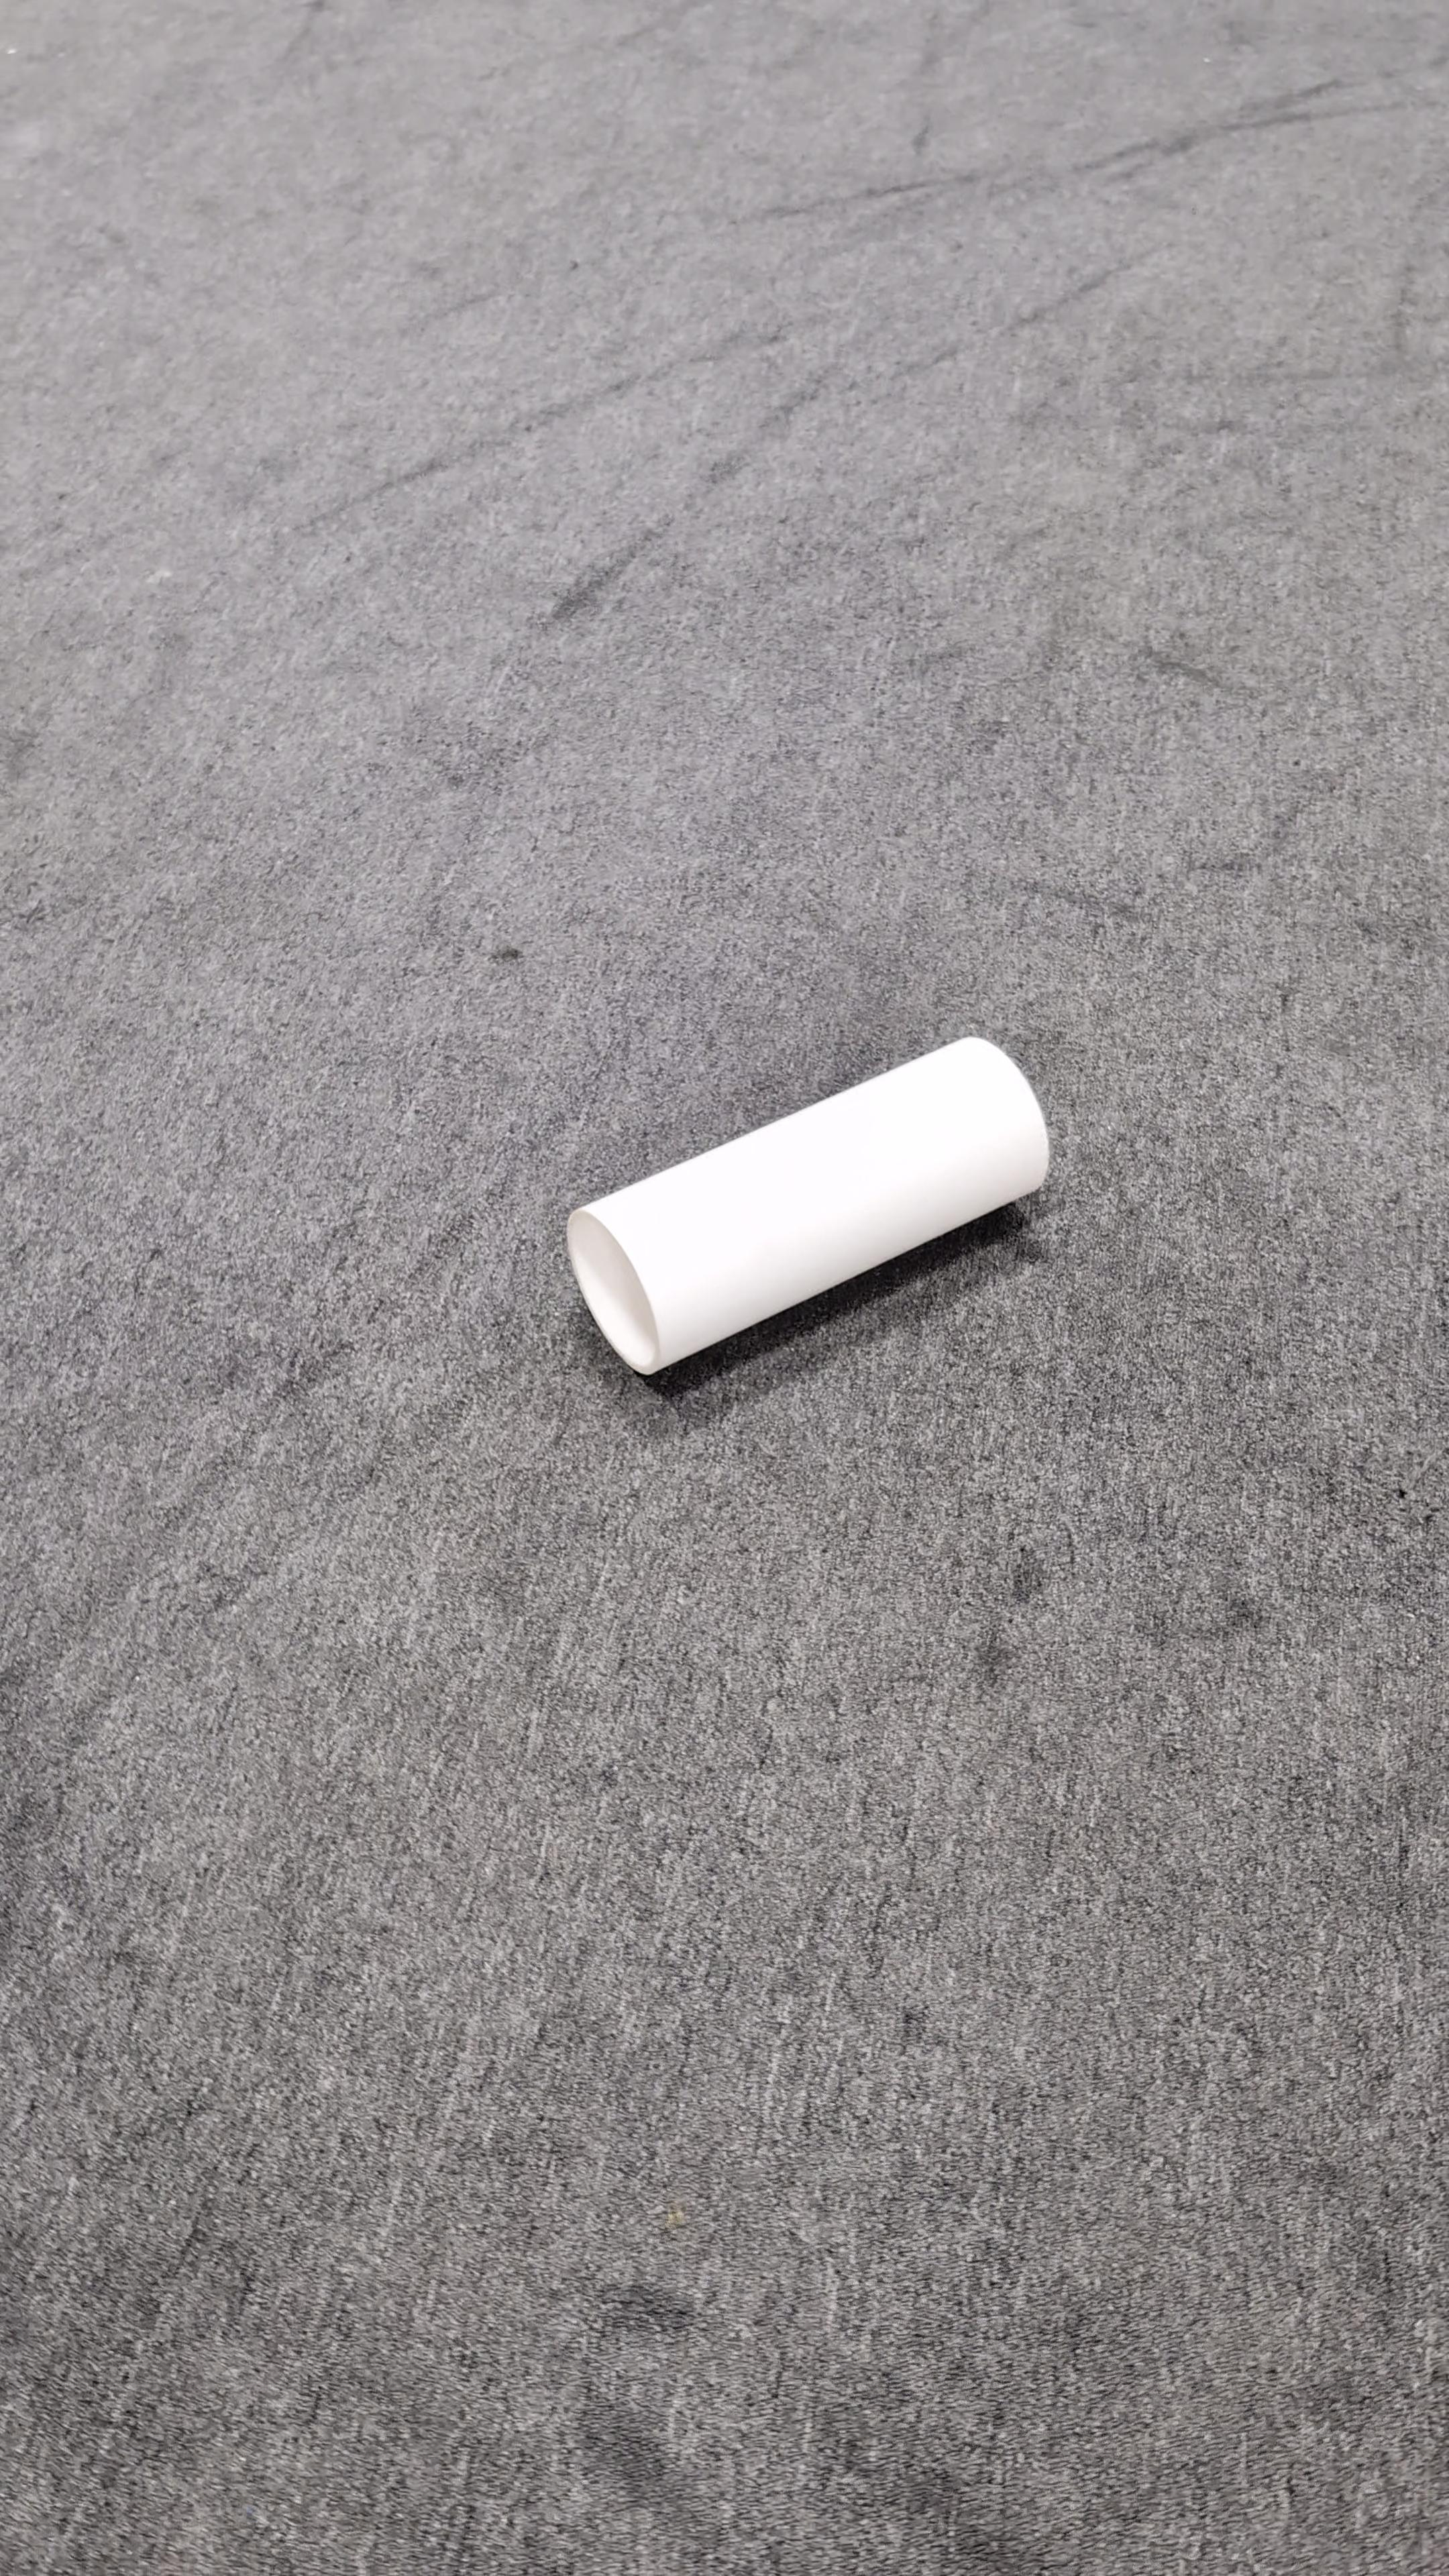coral: (563, 1031, 1054, 1378)
